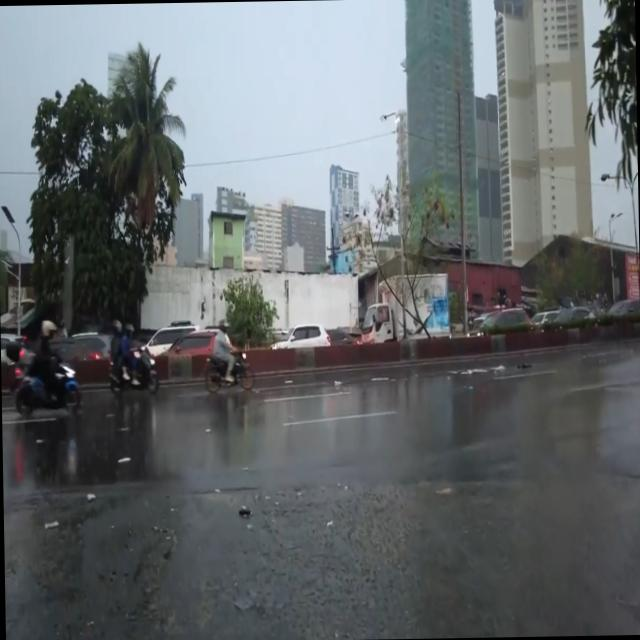full: (41, 320, 57, 340), (217, 317, 229, 334), (112, 319, 121, 336)
half: (125, 323, 134, 338)
